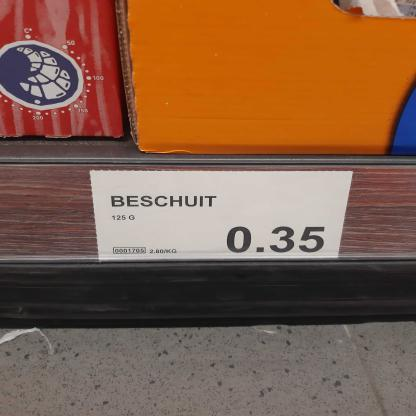prtg: (89, 171, 356, 262)
